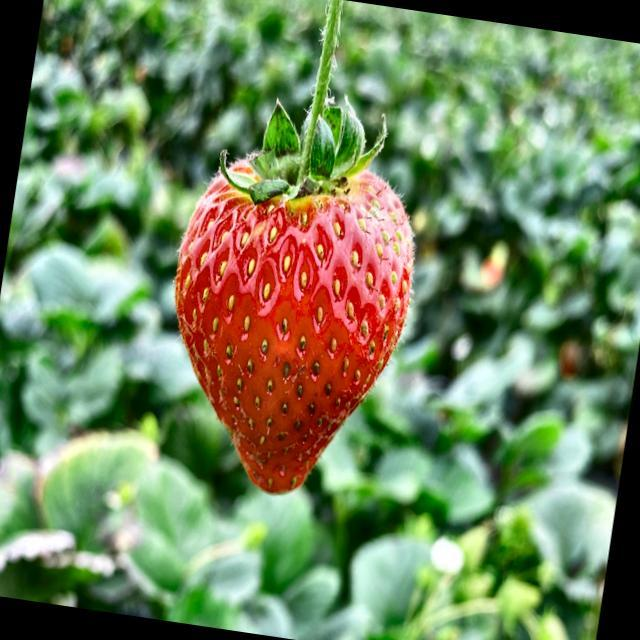strawberry: (178, 0, 414, 492)
